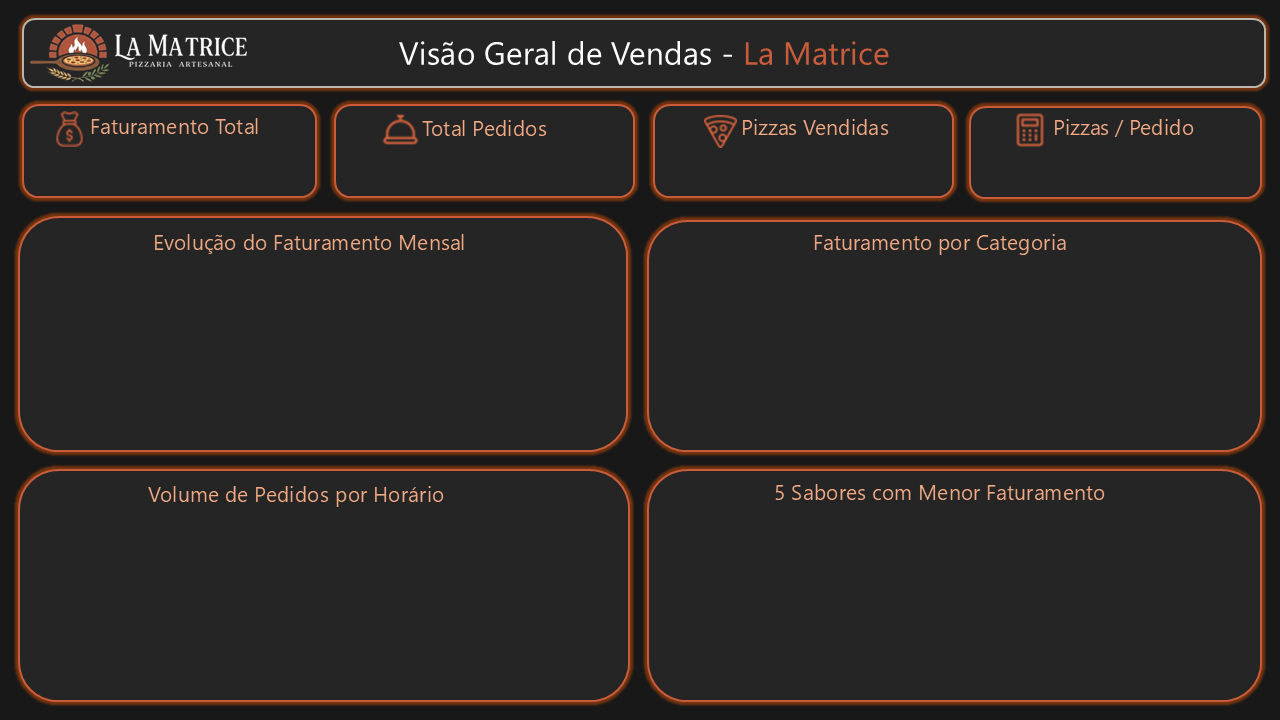

The page's visual inventory and layout, read from the dashboard file:
{"tool":"powerbi","page":{"name":"Vendas - La Matrice","canvas":[1280,720],"ordinal":0},"visuals":[{"type":"areaChart","fields":{"Y":["_Medidas.Faturamento Total"],"Category":["dCalendario.Mês Nome Curto"]},"box":[30.4,248.5,581,191.3],"z":0},{"type":"card","fields":{"Values":["_Medidas.Faturamento Total"]},"box":[18.7,85,299.5,146.9],"z":1000},{"type":"card","fields":{"Values":["_Medidas.Total Pedidos"]},"box":[328.3,85,301,146.9],"z":2000},{"type":"card","fields":{"Values":["_Medidas.Média Pizzas por Pedido"]},"box":[957.6,85,299.5,146.9],"z":3000},{"type":"card","fields":{"Values":["_Medidas.Qtde Pizzas Vendidas"]},"box":[646.6,85,301,146.9],"z":4000},{"type":"clusteredBarChart","fields":{"Category":["dProduto.Categoria"],"Y":["_Medidas.Qtde Pizzas Vendidas"]},"box":[661,241.9,593.3,198.7],"z":5000},{"type":"clusteredColumnChart","fields":{"Category":["fPedido.Hora Cheia"],"Y":["_Medidas.Total Pedidos"]},"box":[15.8,501.1,610.6,188.6],"z":6000},{"type":"tableEx","fields":{"Values":["dProduto.Nome","_Medidas.Qtde Pizzas Vendidas","_Medidas.Faturamento Total"]},"box":[756.2,504.1,402.2,182.3],"z":7000},{"type":"slicer","fields":{"Values":["dCalendario.Mês Nome Completo"]},"box":[1004.3,24.3,250,50],"z":8000}]}

Visuals, with their boxes in screenshot pixels (x1, y1, x2, y2), scaled from the page's 1280x720 canvas onto the 1280x720 screenshot:
areaChart - _Medidas.Faturamento Total x dCalendario.Mês Nome Curto: Rect(30, 248, 611, 440)
card - _Medidas.Faturamento Total: Rect(19, 85, 318, 232)
card - _Medidas.Total Pedidos: Rect(328, 85, 629, 232)
card - _Medidas.Média Pizzas por Pedido: Rect(958, 85, 1257, 232)
card - _Medidas.Qtde Pizzas Vendidas: Rect(647, 85, 948, 232)
clusteredBarChart - dProduto.Categoria x _Medidas.Qtde Pizzas Vendidas: Rect(661, 242, 1254, 441)
clusteredColumnChart - fPedido.Hora Cheia x _Medidas.Total Pedidos: Rect(16, 501, 626, 690)
tableEx - dProduto.Nome x _Medidas.Qtde Pizzas Vendidas: Rect(756, 504, 1158, 686)
slicer - dCalendario.Mês Nome Completo: Rect(1004, 24, 1254, 74)
